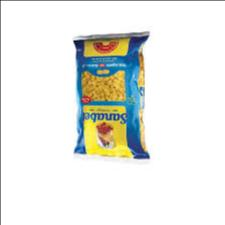Fell: (74, 33, 150, 160)
